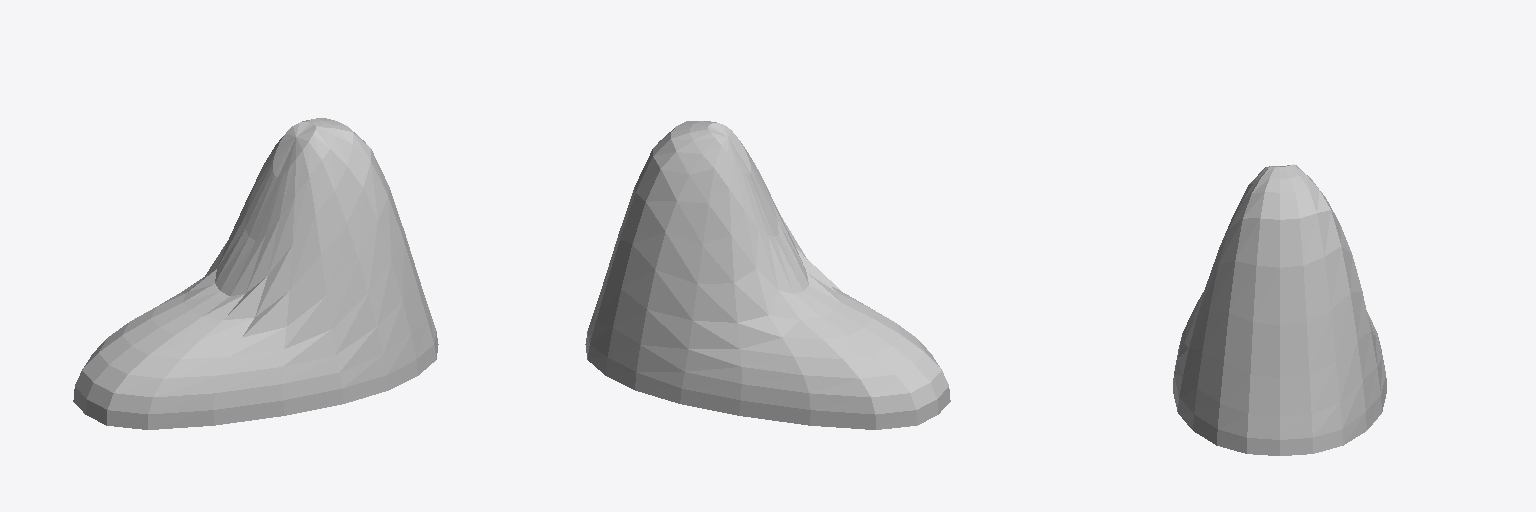
Rendered from Rock1.obj.
The picture shows the model from 3 angles: view 1: azimuth 30°, elevation 25°; view 2: azimuth 150°, elevation 25°; view 3: azimuth 270°, elevation 25°; orthographic projection.
Parts seen in each view (by area): view 1: pSphere1; view 2: pSphere1; view 3: pSphere1.
Part boxes in pixels (x1,y1,x2,y2): pSphere1: (73,118,438,429); pSphere1: (585,121,950,429); pSphere1: (1173,164,1386,455).
Size of the model in its own units: 18.31 by 12.01 by 9.99.